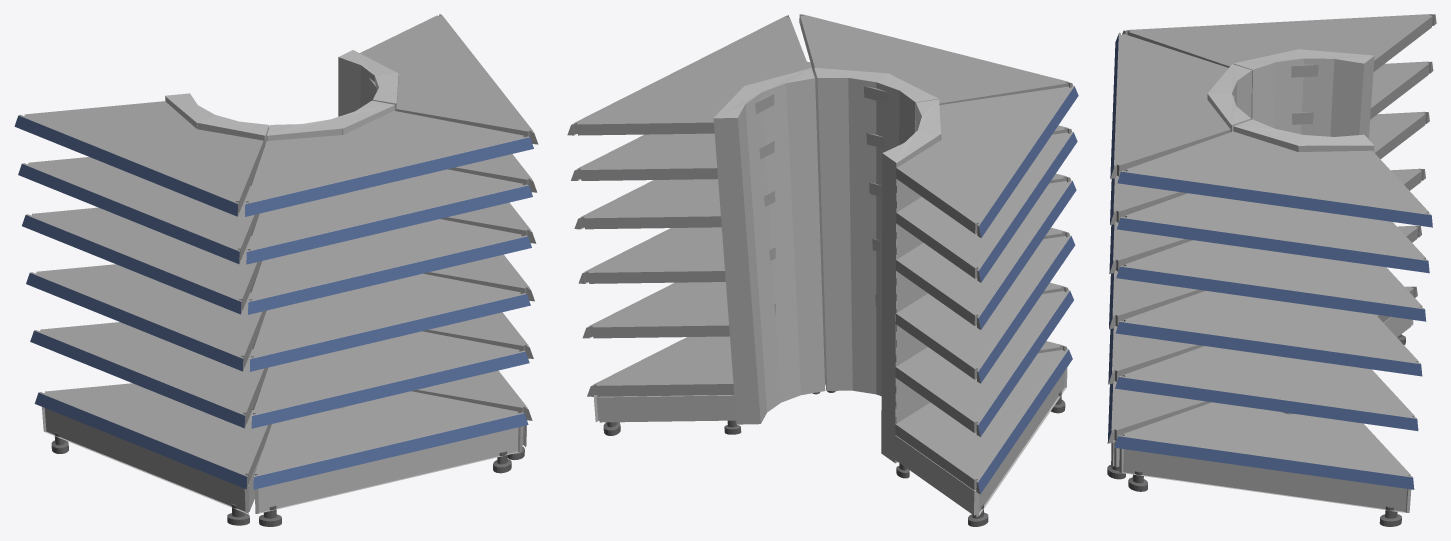
Rendered from shelf1.fbx.
The picture shows the model from 3 angles, left to right: view 1: azimuth 30°, elevation 25°; view 2: azimuth 150°, elevation 25°; view 3: azimuth 270°, elevation 25°; orthographic projection. The views are drawn at different scales.
Parts seen in each view (by area): view 1: group2, group7, group6, pCube5, pCube15, pCube16, pCube4, pCube14; view 2: group7, group6, pCube16, pCube4, group2, pCube14, pCube15, pCube17; view 3: group6, group2, group7, pCube14, pCube17, pCube16, pCube4.
Boxes of the visible parts, left/top/right/bottom form: group2: left=245, top=111, right=533, bottom=489; group7: left=14, top=101, right=271, bottom=489; group6: left=360, top=14, right=538, bottom=420; pCube5: left=254, top=426, right=521, bottom=513; pCube15: left=42, top=407, right=262, bottom=513; pCube16: left=338, top=50, right=398, bottom=116; pCube4: left=266, top=100, right=394, bottom=408; pCube14: left=165, top=93, right=269, bottom=409; group7: left=895, top=86, right=1078, bottom=494; group6: left=567, top=15, right=809, bottom=396; pCube16: left=713, top=68, right=825, bottom=424; pCube4: left=814, top=68, right=937, bottom=396; group2: left=799, top=14, right=1073, bottom=353; pCube14: left=881, top=99, right=941, bottom=463; pCube15: left=895, top=367, right=1067, bottom=516; pCube17: left=593, top=395, right=736, bottom=422; group6: left=1114, top=131, right=1432, bottom=489; group2: left=1107, top=32, right=1234, bottom=443; group7: left=1122, top=14, right=1436, bottom=322; pCube14: left=1233, top=49, right=1374, bottom=139; pCube17: left=1119, top=448, right=1411, bottom=512; pCube16: left=1233, top=119, right=1374, bottom=414; pCube4: left=1207, top=64, right=1251, bottom=131.
Size of the model in its own units: 1.39 by 1.08 by 0.9498.
